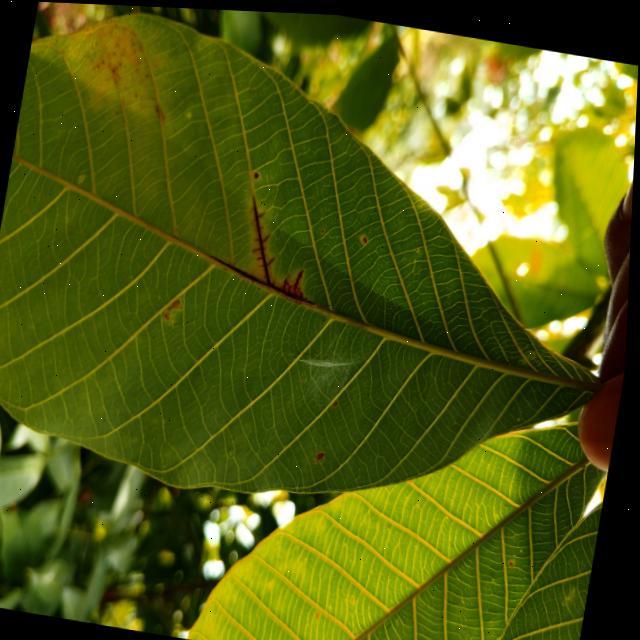Colletotrichum: (254, 170, 259, 176), (363, 234, 367, 238)
Corynespora: (206, 252, 321, 303), (241, 194, 286, 281)
